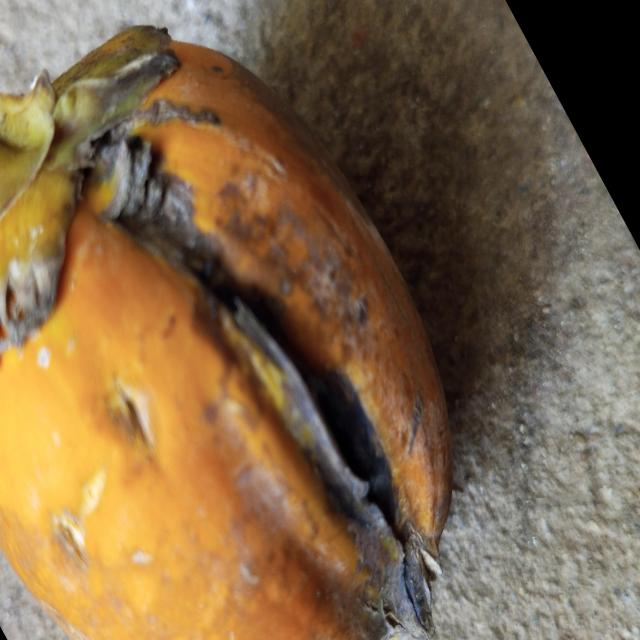damaged: (0, 26, 452, 638)
